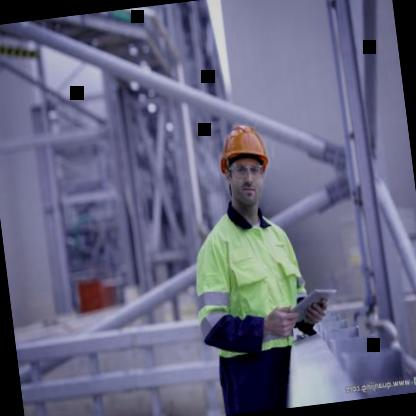helmet: (210, 113, 280, 219)
